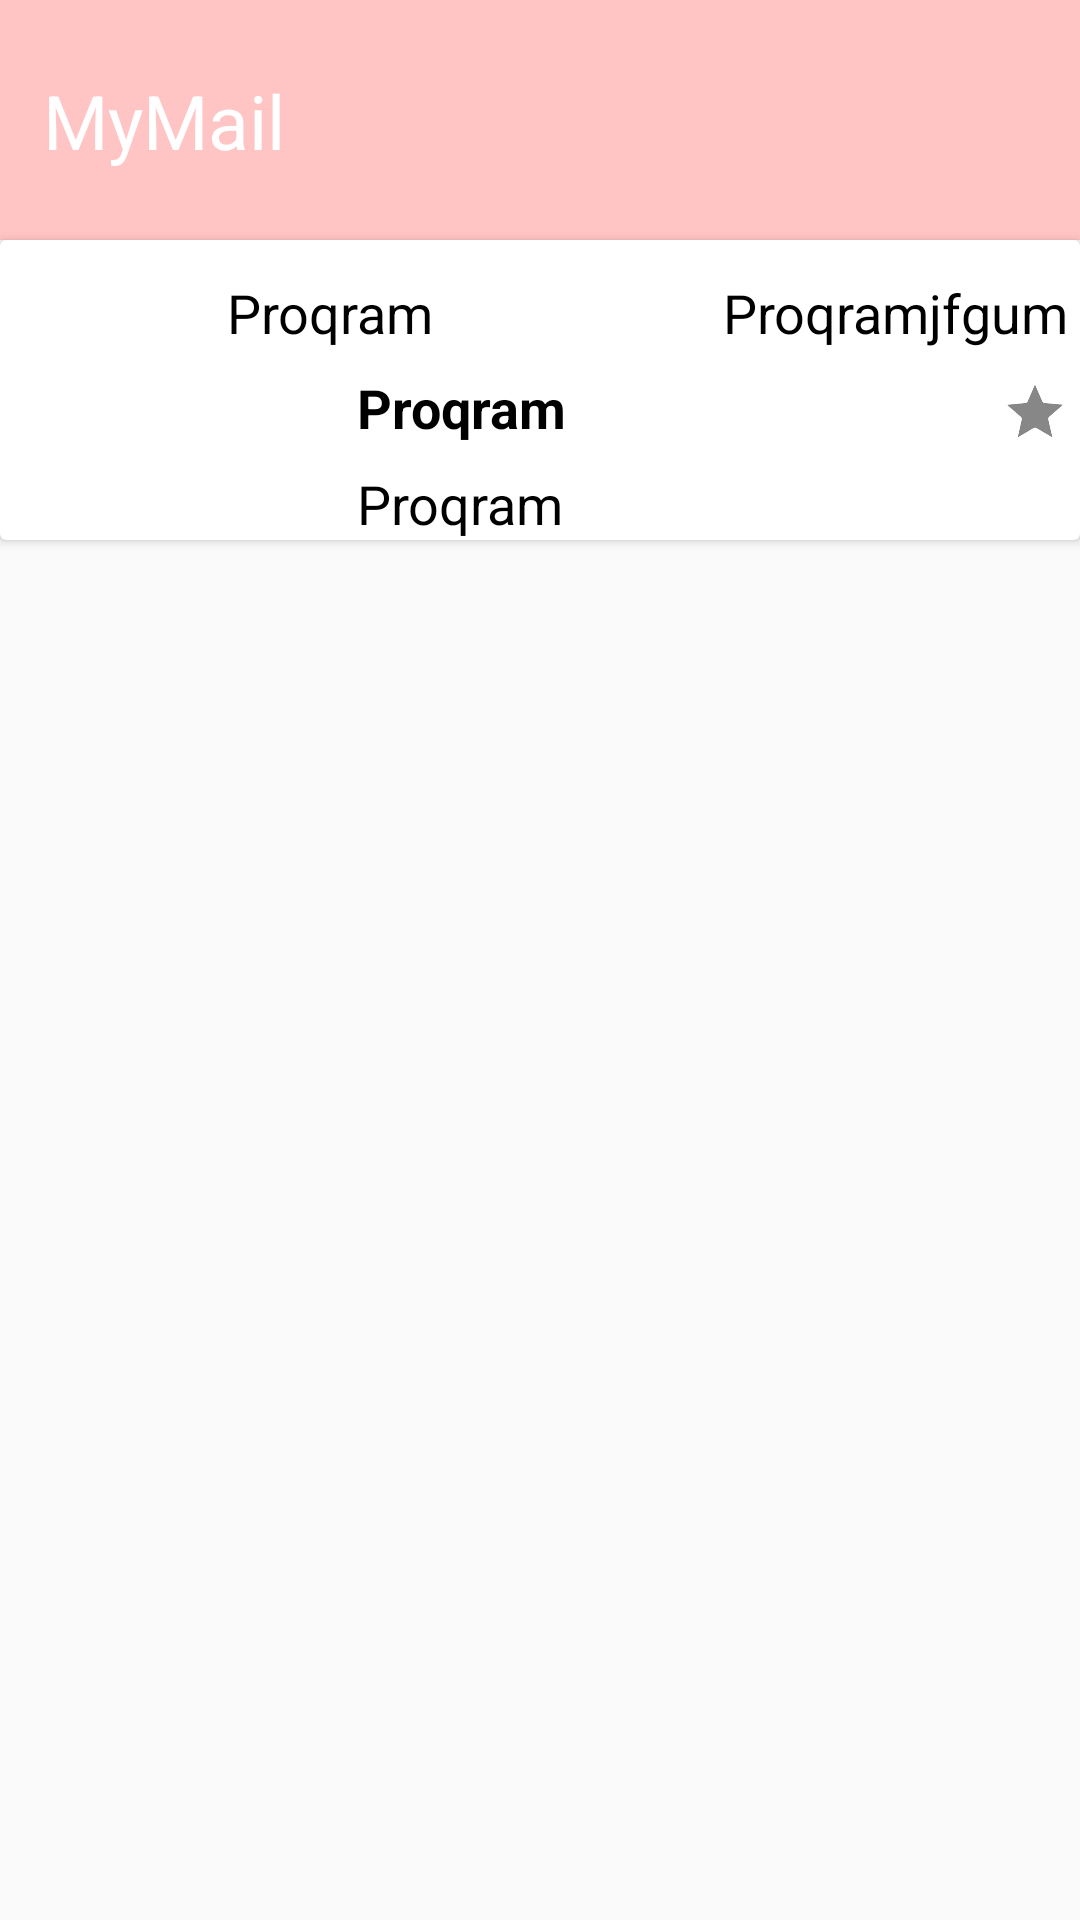

Where to tap for icons on this 1080 × 1920 app screen, as (x,y):
star: (1035,411)
